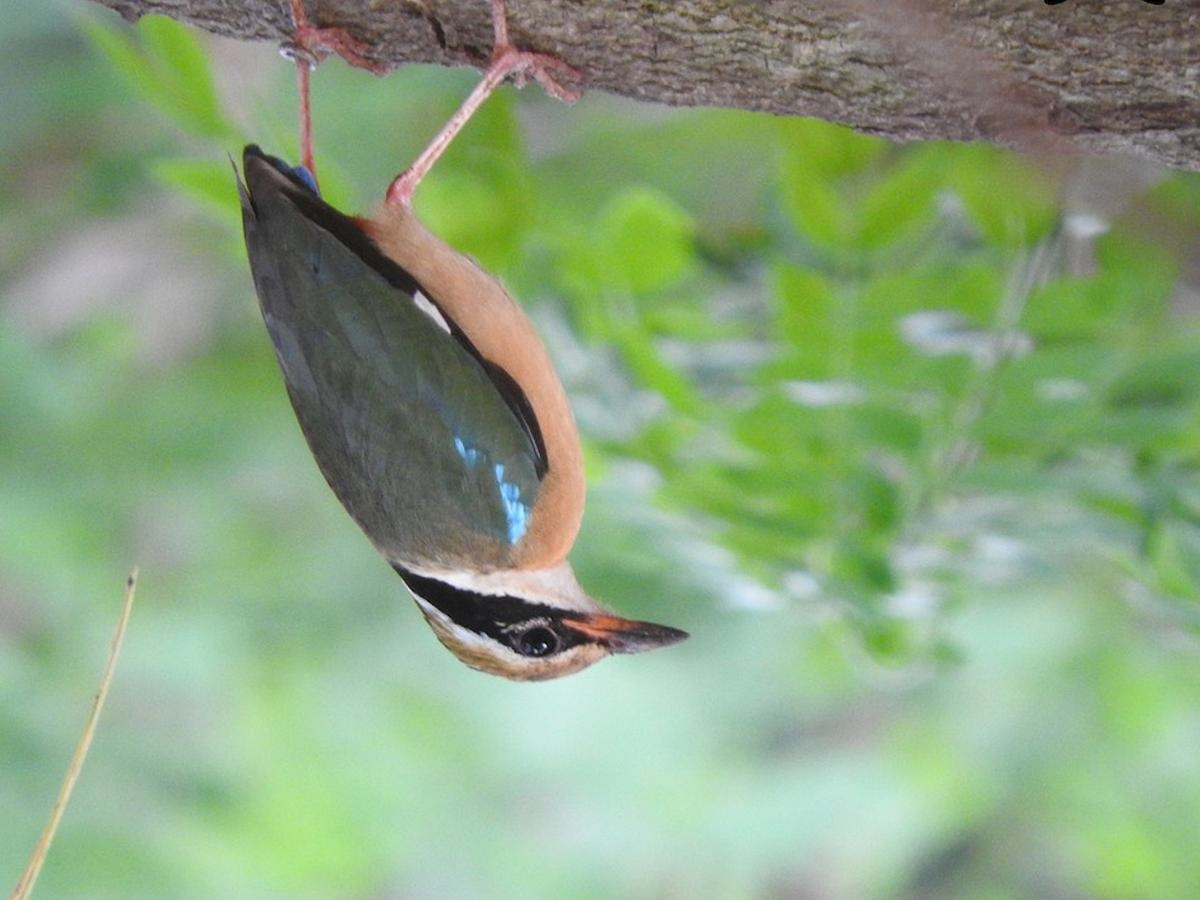pitta: (223, 58, 720, 727)
